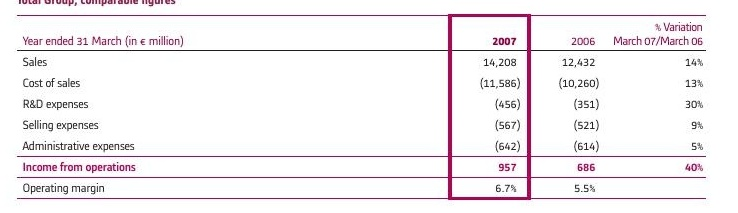table: (0, 0, 738, 213)
